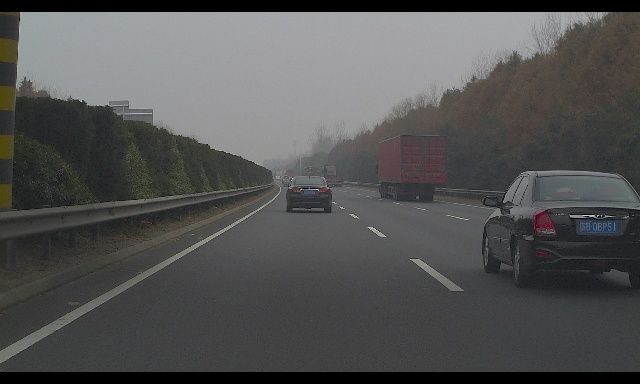car: (482, 170, 640, 288), (283, 176, 334, 213), (281, 175, 290, 184)
truck: (375, 134, 447, 202), (322, 165, 344, 188), (303, 166, 319, 184), (285, 169, 296, 182), (275, 170, 283, 178)
